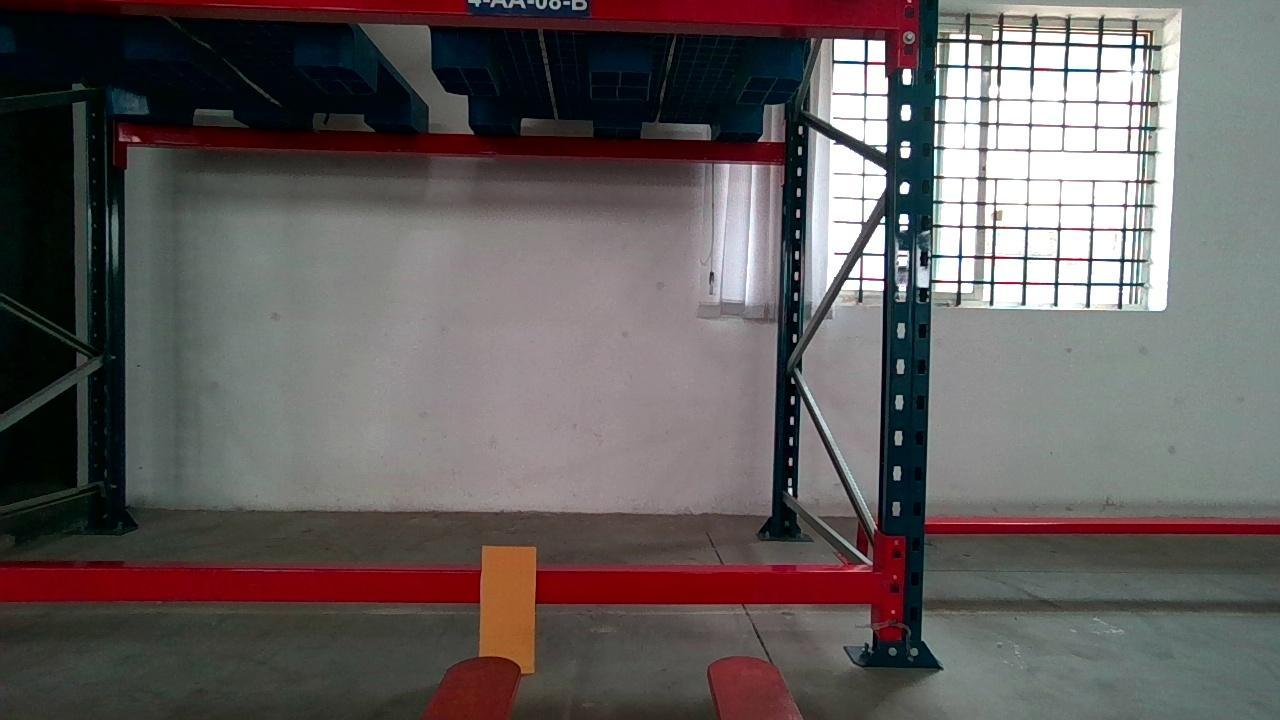h_rack: (0, 566, 885, 605)
orange_strip: (480, 544, 534, 659)
